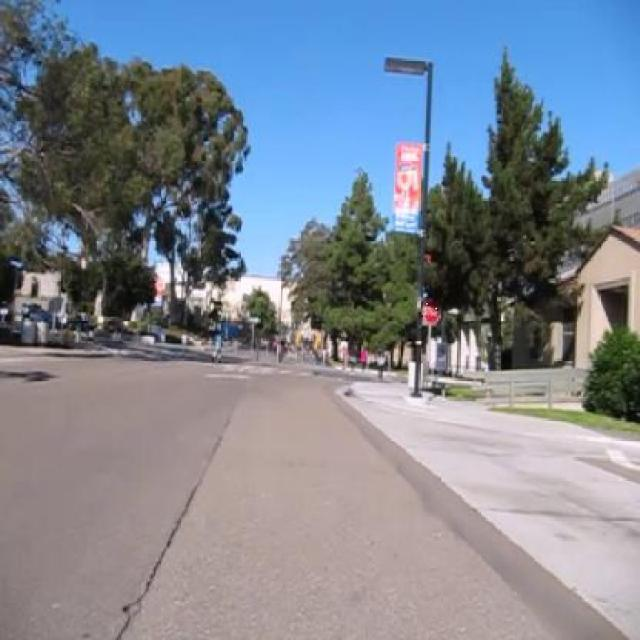stop: (422, 299, 442, 326)
